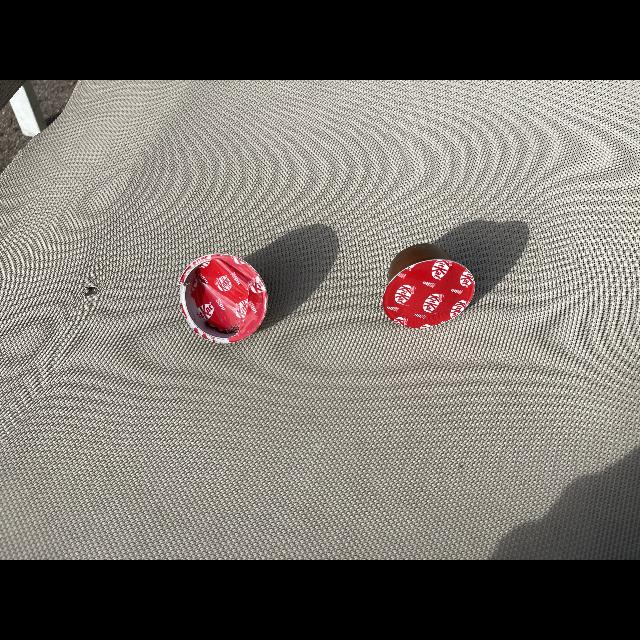damaged_capsule: (173, 252, 271, 346)
intact_capsule: (381, 237, 477, 336)
